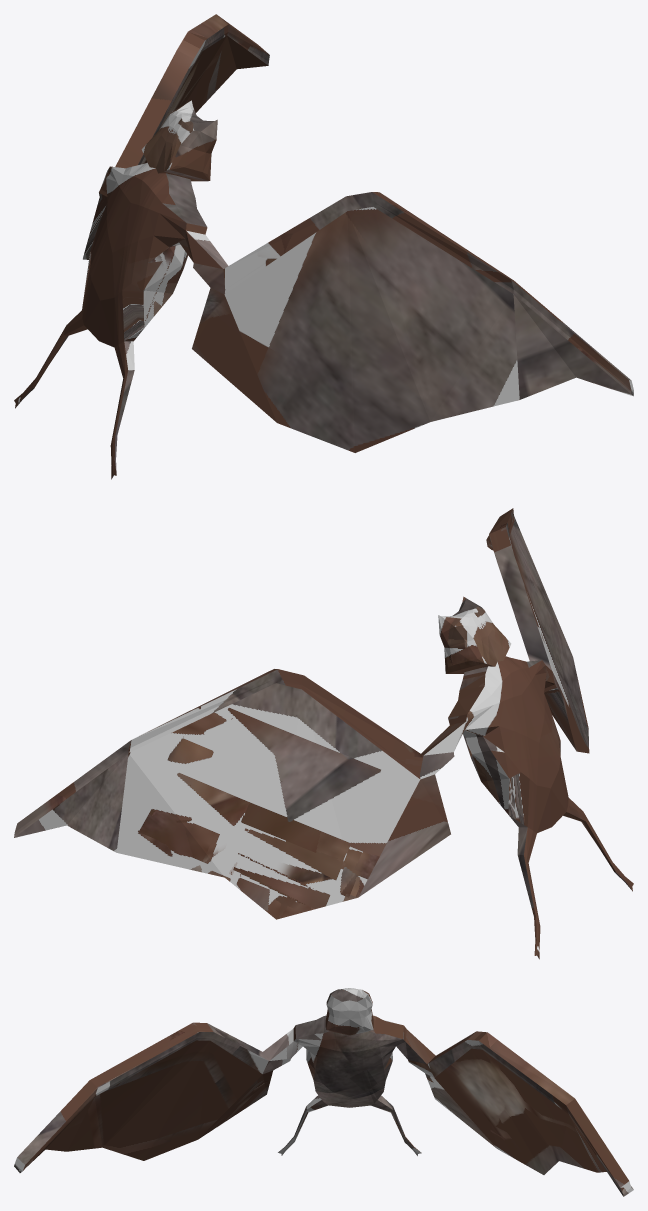
The model's file is Enemigo120.obj.
3 views of the same model, one above another, from view 1: azimuth 30°, elevation 25°; view 2: azimuth 150°, elevation 25°; view 3: azimuth 270°, elevation 25° (orthographic). The views are drawn at different scales.
Visible parts, largest first — view 1: Plano; view 2: Plano; view 3: Plano.
Part boxes in pixels (x1,y1,x2,y2): Plano: (14,14,633,479); Plano: (14,508,633,959); Plano: (14,988,633,1196).
Bounding box in the file's own units: 0.9538 × 0.6815 × 1.82.
1 material, 1 textured.
